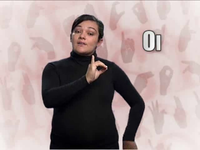oi: (86, 54, 109, 82)
